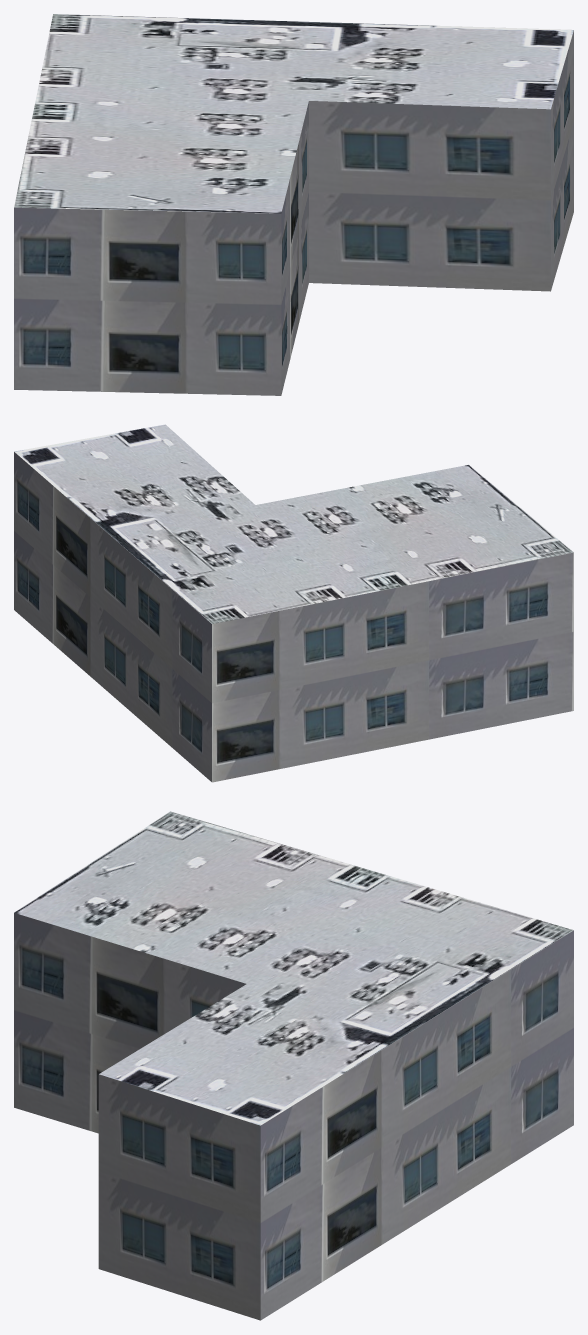
Rendered from ResTex__5131.fbx.
3 renders of one model, top to bottom at view 1: azimuth 30°, elevation 25°; view 2: azimuth 150°, elevation 25°; view 3: azimuth 270°, elevation 25°, orthographic. The views are drawn at different scales.
Visible parts, largest first — view 1: CityEngineMaterial_10_m, CityEngineMaterial_8_m; view 2: CityEngineMaterial_10_m, CityEngineMaterial_8_m; view 3: CityEngineMaterial_10_m, CityEngineMaterial_8_m.
Boxes of the visible parts, x1,y1,x2,y2 form: CityEngineMaterial_10_m: [14, 30, 573, 395]; CityEngineMaterial_8_m: [14, 14, 573, 213]; CityEngineMaterial_10_m: [14, 452, 573, 782]; CityEngineMaterial_8_m: [14, 424, 573, 623]; CityEngineMaterial_10_m: [14, 913, 573, 1320]; CityEngineMaterial_8_m: [14, 811, 573, 1125].
Size of the model in its own units: 20.75 by 6 by 15.62.
2 materials, 2 textured.
